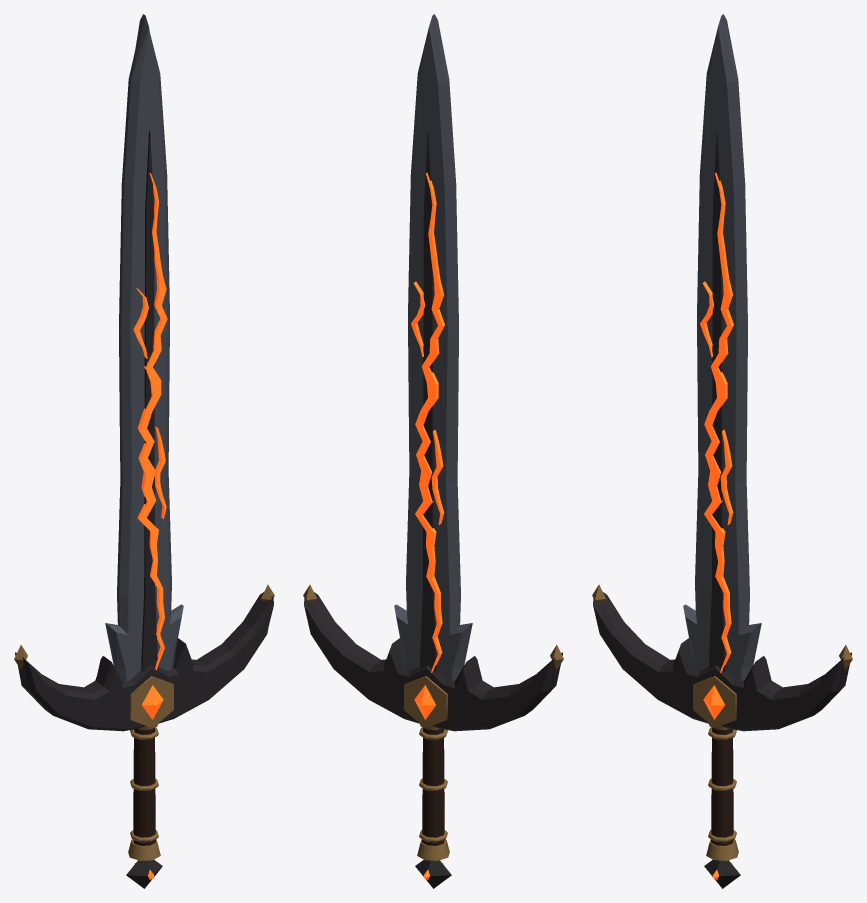
Rendered from ember-greatsword-roblox.glb.
3 views of the same model, side by side, from view 1: azimuth 30°, elevation 25°; view 2: azimuth 150°, elevation 25°; view 3: azimuth 330°, elevation 25° (orthographic).
Parts seen in each view (by area): view 1: dark_steel, ornate_iron, ember_glow, old_bronze, grip_leather; view 2: dark_steel, ornate_iron, ember_glow, old_bronze, grip_leather; view 3: dark_steel, ornate_iron, ember_glow, old_bronze, grip_leather.
Part boxes in pixels (box(x1,y1,x2,y2)): dark_steel: box(105, 14, 183, 680); ornate_iron: box(15, 131, 273, 888); ember_glow: box(133, 173, 167, 879); old_bronze: box(14, 584, 274, 860); grip_leather: box(133, 728, 155, 845); dark_steel: box(394, 14, 472, 680); ornate_iron: box(304, 131, 562, 888); ember_glow: box(411, 172, 444, 879); old_bronze: box(303, 584, 563, 860); grip_leather: box(422, 728, 444, 845); dark_steel: box(683, 14, 761, 680); ornate_iron: box(593, 131, 851, 888); ember_glow: box(700, 172, 733, 879); old_bronze: box(592, 584, 852, 860); grip_leather: box(711, 728, 733, 845).
Size of the model in its own units: 1.87 by 6 by 0.299.
